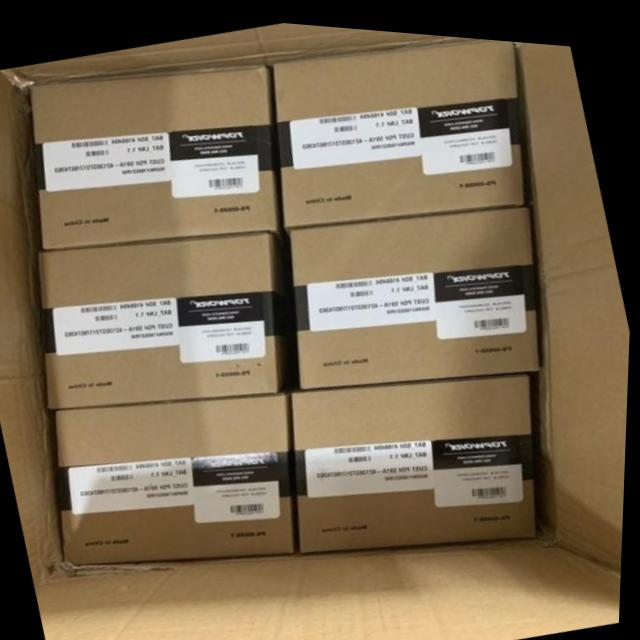box: (29, 59, 284, 251), (272, 31, 526, 222), (292, 196, 543, 384), (294, 365, 539, 547), (42, 228, 282, 408), (56, 390, 299, 564)
